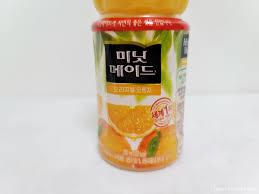minutemaid_org_orange: (84, 0, 199, 176)
